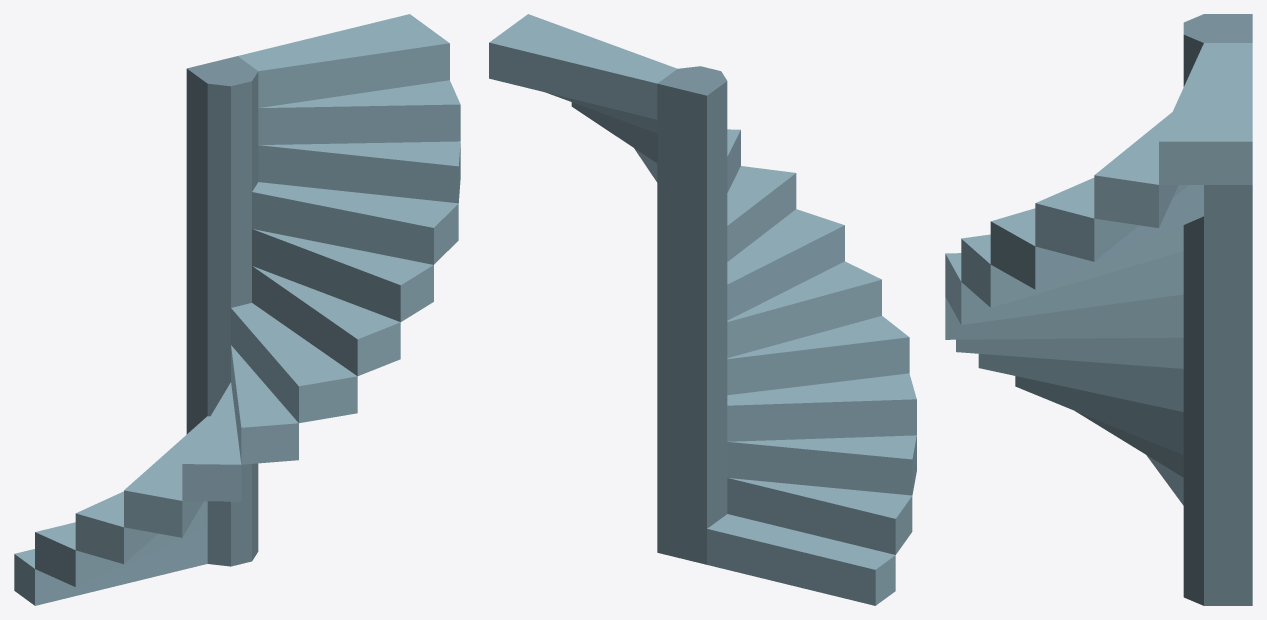
Rendered from stairsStoneRound.obj.
3 views of the same model, side by side, from view 1: azimuth 30°, elevation 25°; view 2: azimuth 150°, elevation 25°; view 3: azimuth 270°, elevation 25° (orthographic). The views are drawn at different scales.
Parts seen in each view (by area): view 1: stairsStoneRound; view 2: stairsStoneRound; view 3: stairsStoneRound.
Boxes of the visible parts, x1=… form: stairsStoneRound: x1=14, y1=14, x2=460, y2=605; stairsStoneRound: x1=489, y1=14, x2=916, y2=605; stairsStoneRound: x1=945, y1=14, x2=1252, y2=605.
Bounding box in the file's own units: 0.8618 × 1 × 0.4949.
